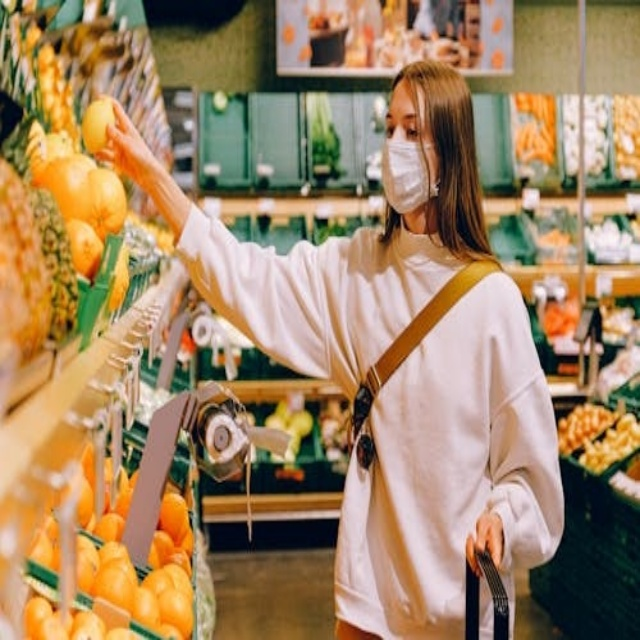Mascara: (378, 136, 443, 211)
Sin_gafas: (383, 108, 425, 138)
Sin_guantes: (87, 85, 161, 190), (466, 509, 508, 582)
